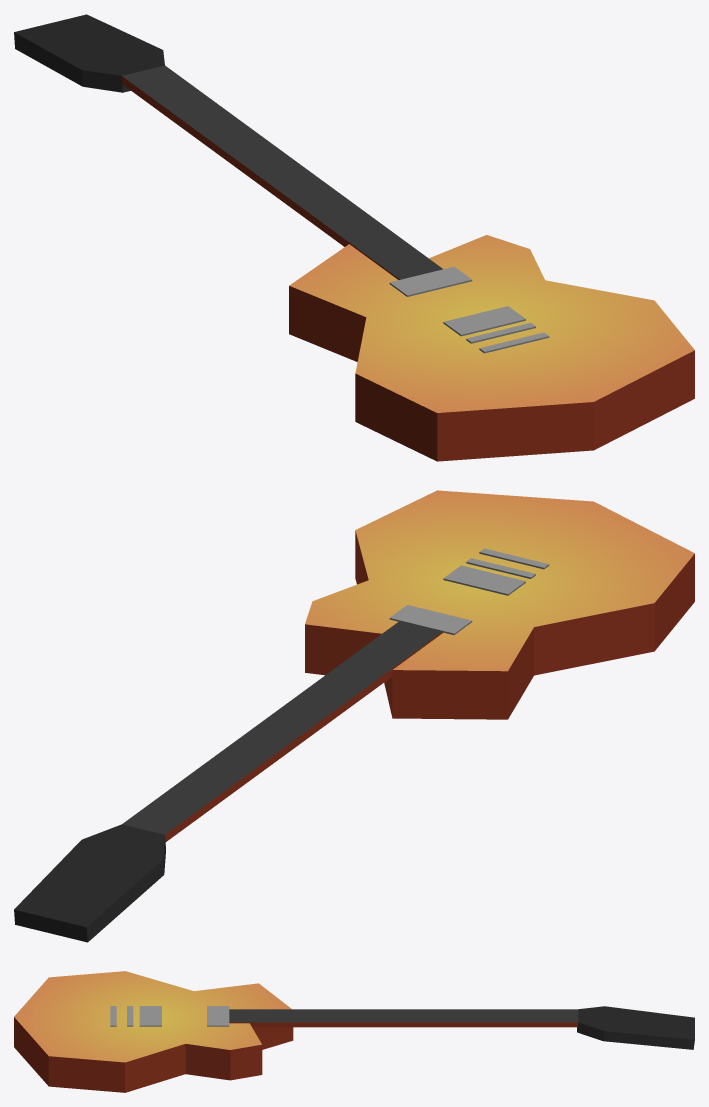
Rendered from low_poly_guitar.fbx.
The picture shows the model from 3 angles, top to bottom: view 1: azimuth 30°, elevation 25°; view 2: azimuth 150°, elevation 25°; view 3: azimuth 270°, elevation 25°; orthographic projection. The views are drawn at different scales.
Visible parts, largest first — view 1: Plane.003; view 2: Plane.003; view 3: Plane.003.
Part boxes in pixels (x1,y1,x2,y2): Plane.003: (14,14,694,461); Plane.003: (14,490,694,942); Plane.003: (14,971,694,1092).
Size of the model in its own units: 194 by 31.01 by 610.
